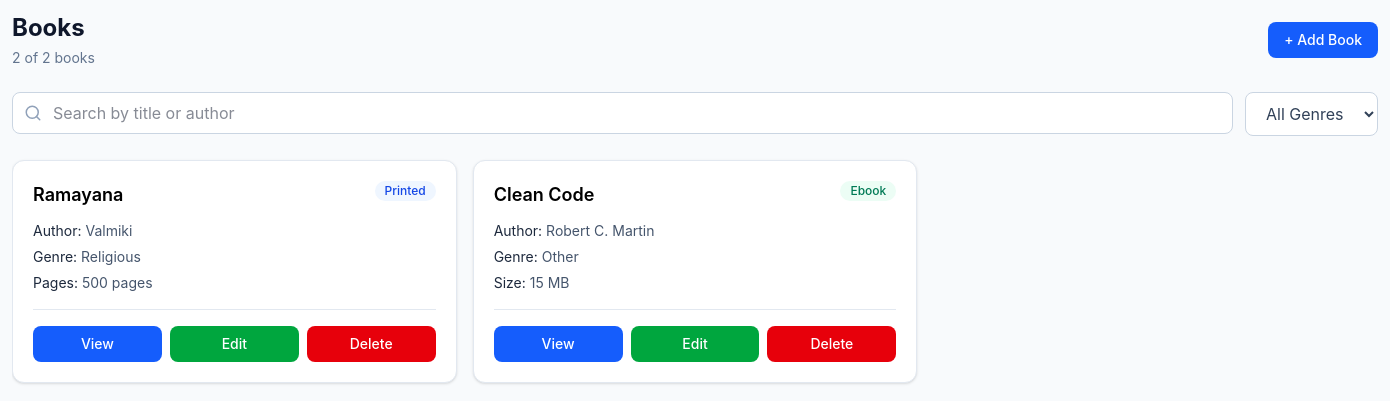
Test: Books Page Integration › filters books by selected genre dropdown
Select "Religious" in the dropdown at (1312, 114), box [1245, 92, 1378, 136]
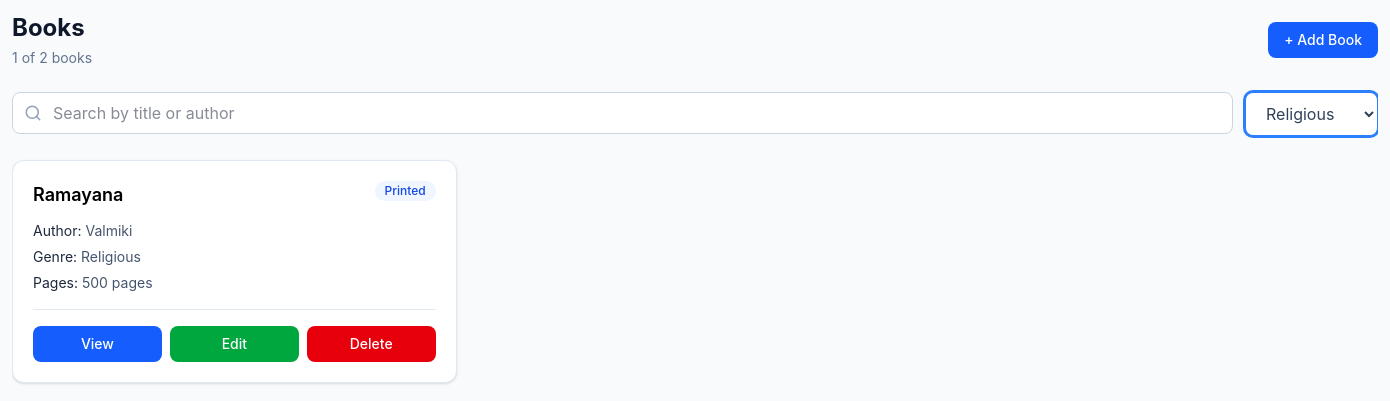
Expected: the heading "Ramayana" is shown, [33, 181, 131, 209]
Result: the text "1 of 2 books" is shown at [12, 48, 92, 68]
Result: the heading "Clean Code" is gone
